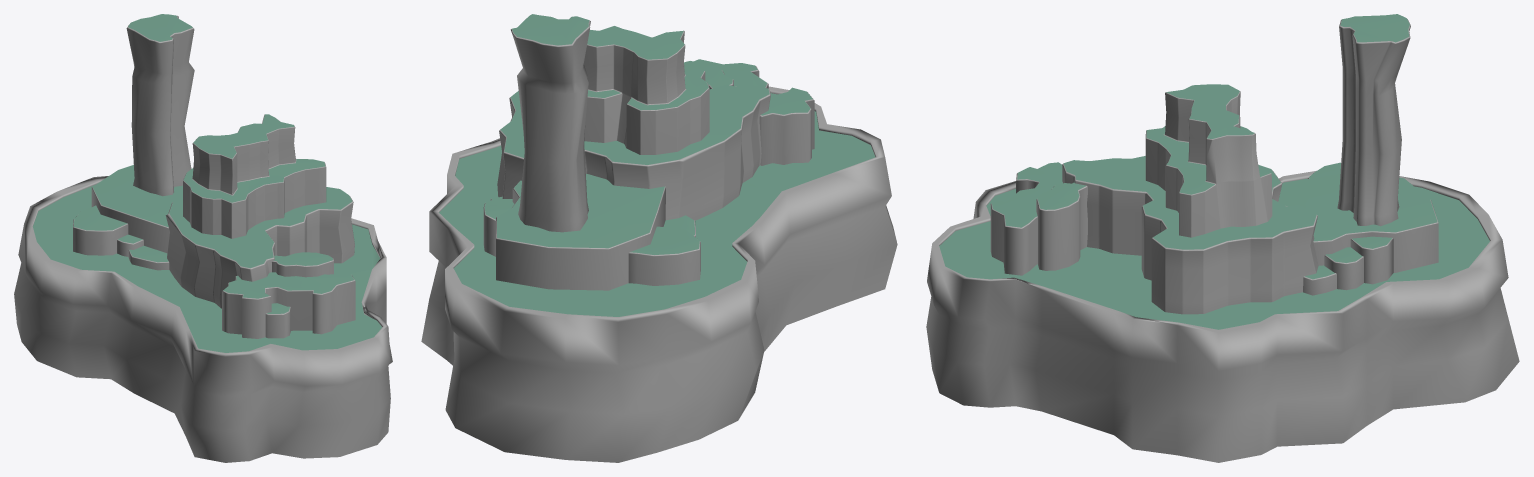
The model's file is big waaterfall rock.fbx.
3 renders of one model, left to right at view 1: azimuth 30°, elevation 25°; view 2: azimuth 150°, elevation 25°; view 3: azimuth 270°, elevation 25°, orthographic. The views are drawn at different scales.
Visible parts, largest first — view 1: PolyShape__15_:PolyShape_8_, PolyShape__15_:PolyShape__15_:PolyShape_2_1, PolyShape__15_:PolyShape_2_2, PolyShape__15_:PolyShape_11_2, PolyShape__15_:PolyShape__15_:polySurface2, PolyShape__15_:polySurface4; view 2: PolyShape__15_:PolyShape_8_, PolyShape__15_:polySurface4, PolyShape__15_:PolyShape_11_2, PolyShape__15_:PolyShape_2_2, PolyShape__15_:PolyShape__15_:PolyShape_2_1, PolyShape__15_:PolyShape__15_:polySurface2, PolyShape__15_:PolyShape__15_:polySurface1; view 3: PolyShape__15_:PolyShape_8_, PolyShape__15_:PolyShape_2_2, PolyShape__15_:PolyShape__15_:PolyShape_2_1, PolyShape__15_:PolyShape_11_2, PolyShape__15_:PolyShape__15_:polySurface2, PolyShape__15_:polySurface4, PolyShape__15_:PolyShape__15_:polySurface1.
Boxes of the visible parts, <box> form: PolyShape__15_:PolyShape_8_: <box>14,176,392,462</box>; PolyShape__15_:PolyShape__15_:PolyShape_2_1: <box>183,114,326,238</box>; PolyShape__15_:PolyShape_2_2: <box>165,187,354,308</box>; PolyShape__15_:PolyShape_11_2: <box>126,14,194,196</box>; PolyShape__15_:PolyShape__15_:polySurface2: <box>222,252,355,338</box>; PolyShape__15_:polySurface4: <box>73,165,182,270</box>; PolyShape__15_:PolyShape_8_: <box>421,86,897,462</box>; PolyShape__15_:polySurface4: <box>496,173,700,290</box>; PolyShape__15_:PolyShape_11_2: <box>510,14,590,232</box>; PolyShape__15_:PolyShape_2_2: <box>497,84,770,220</box>; PolyShape__15_:PolyShape__15_:PolyShape_2_1: <box>583,26,709,154</box>; PolyShape__15_:PolyShape__15_:polySurface2: <box>684,59,814,165</box>; PolyShape__15_:PolyShape__15_:polySurface1: <box>483,196,514,256</box>; PolyShape__15_:PolyShape_8_: <box>926,170,1519,462</box>; PolyShape__15_:PolyShape_2_2: <box>1062,156,1318,314</box>; PolyShape__15_:PolyShape__15_:PolyShape_2_1: <box>1145,84,1272,237</box>; PolyShape__15_:PolyShape_11_2: <box>1337,14,1410,226</box>; PolyShape__15_:PolyShape__15_:polySurface2: <box>990,162,1087,275</box>; PolyShape__15_:polySurface4: <box>1278,162,1438,272</box>; PolyShape__15_:PolyShape__15_:polySurface1: <box>1303,236,1393,295</box>.
Size of the model in its own units: 0.9308 by 0.8708 by 1.35.
